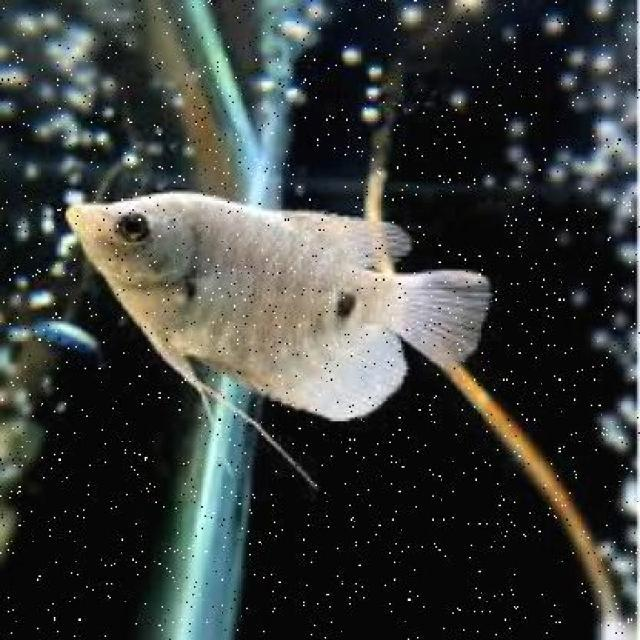gurame: (61, 182, 486, 430)
